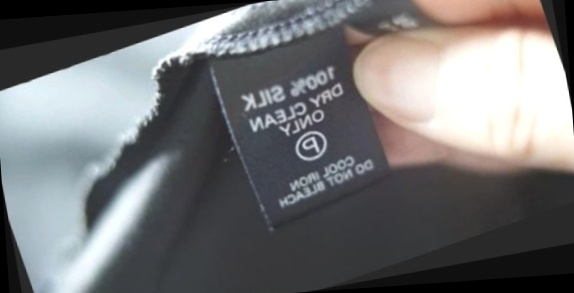dry_clean_any_solvent_except_trichloroethylene: (288, 125, 332, 166)
